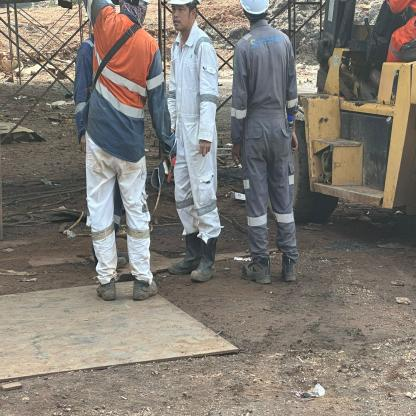bota: (167, 234, 202, 274), (189, 241, 221, 283), (240, 257, 274, 286), (130, 272, 161, 302), (278, 250, 302, 286), (95, 274, 118, 300)
